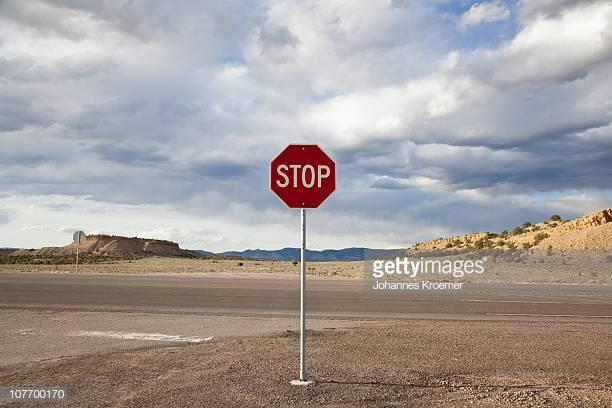Pole: (300, 208, 306, 382)
Sign: (269, 143, 337, 208), (72, 230, 87, 245)
